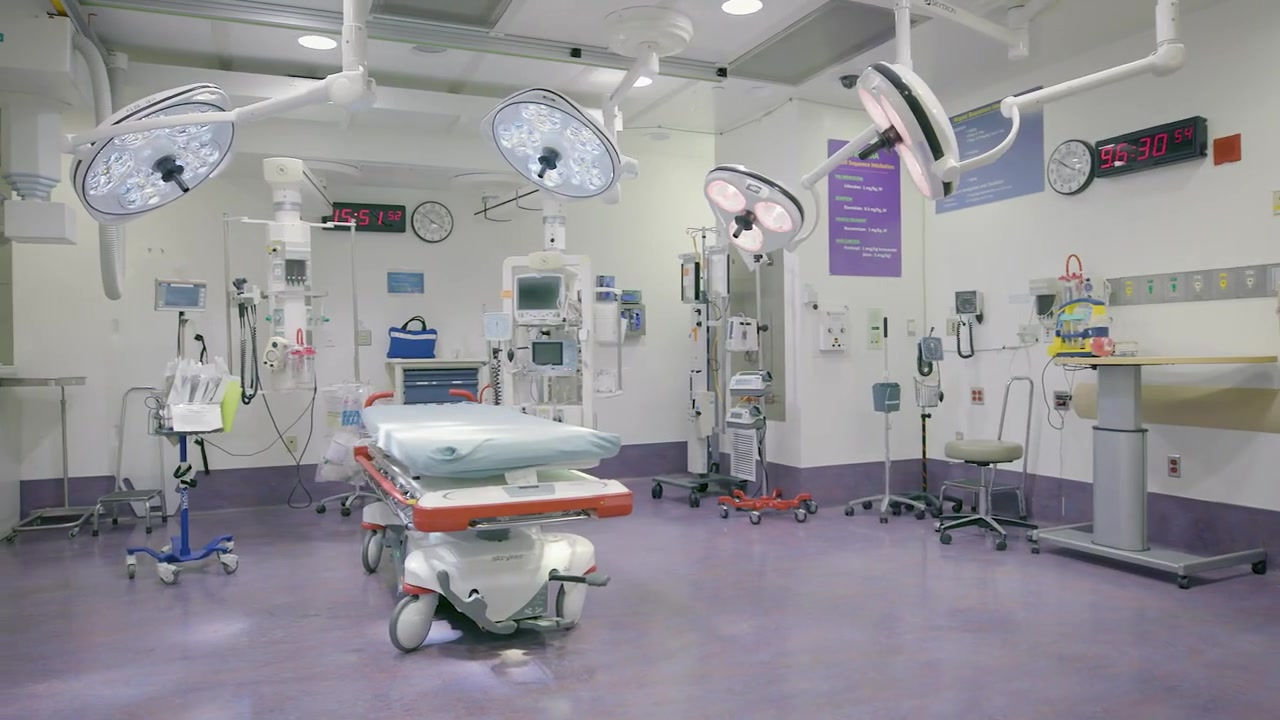bedside_monitor: (514, 274, 566, 322), (525, 338, 578, 375), (161, 282, 211, 314)
chair: (932, 440, 1040, 550)
dispenser: (619, 291, 646, 338), (595, 274, 616, 299)
iv_pole: (686, 225, 718, 481)
medical_drawer: (380, 358, 492, 408)
medical_waste_container: (815, 308, 849, 351)
operating_bed: (356, 391, 635, 652)
overbed_table: (1031, 357, 1280, 588)
surgical_light: (68, 83, 236, 227), (480, 87, 623, 198), (855, 61, 961, 200), (705, 163, 807, 250)
utility_cart: (1, 376, 100, 545)
